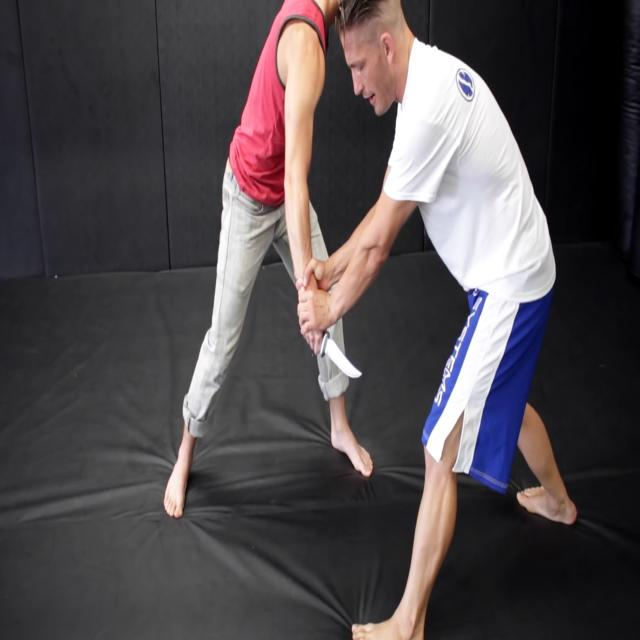knife: (318, 334, 366, 383)
